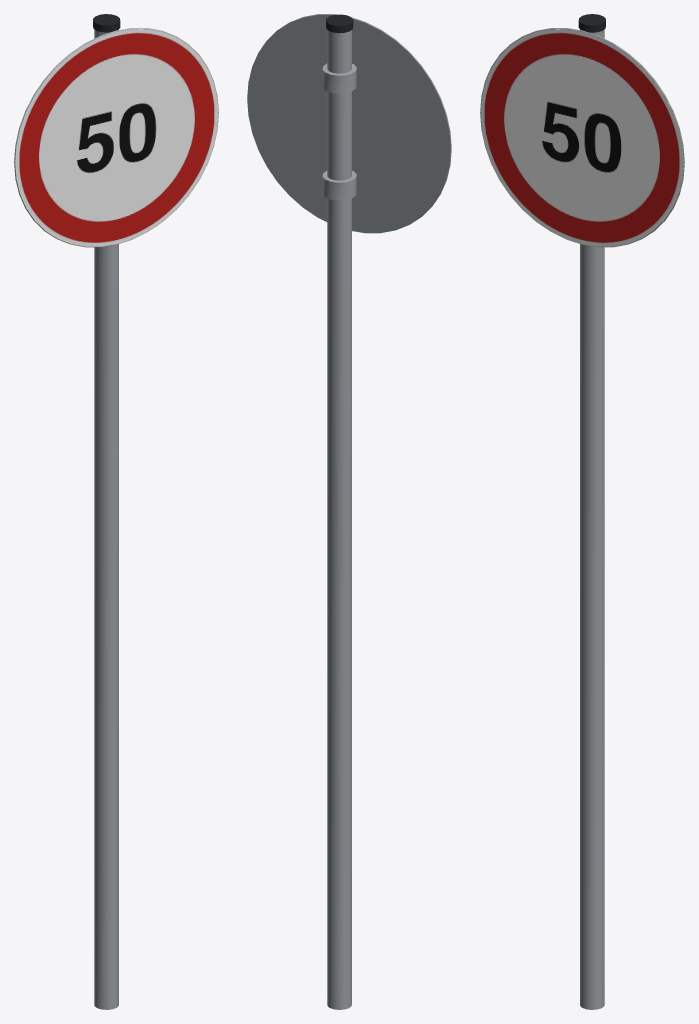
File: speed-limit-sign.glb
3 renders of one model, left to right at view 1: azimuth 30°, elevation 25°; view 2: azimuth 150°, elevation 25°; view 3: azimuth 330°, elevation 25°, orthographic.
Parts seen in each view (by area): view 1: Speed_Limit_Sign; view 2: Speed_Limit_Sign; view 3: Speed_Limit_Sign.
Boxes of the visible parts, box(x1,y1,x2,y2) form: Speed_Limit_Sign: box(14, 14, 218, 1009); Speed_Limit_Sign: box(247, 14, 451, 1009); Speed_Limit_Sign: box(480, 14, 684, 1009).
Bounding box in the file's own units: 0.6 × 2.76 × 0.0962.
3 materials, 1 textured.
